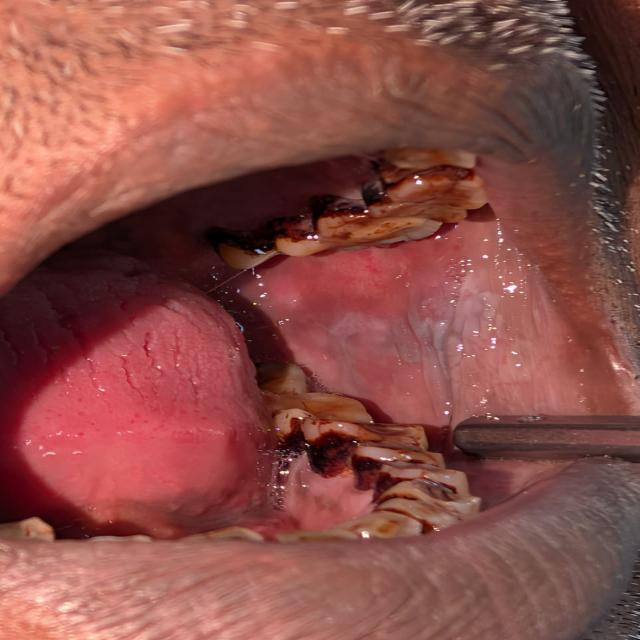leukoplakia-detection: (270, 254, 595, 422)
processing_area: (13, 218, 620, 530)
